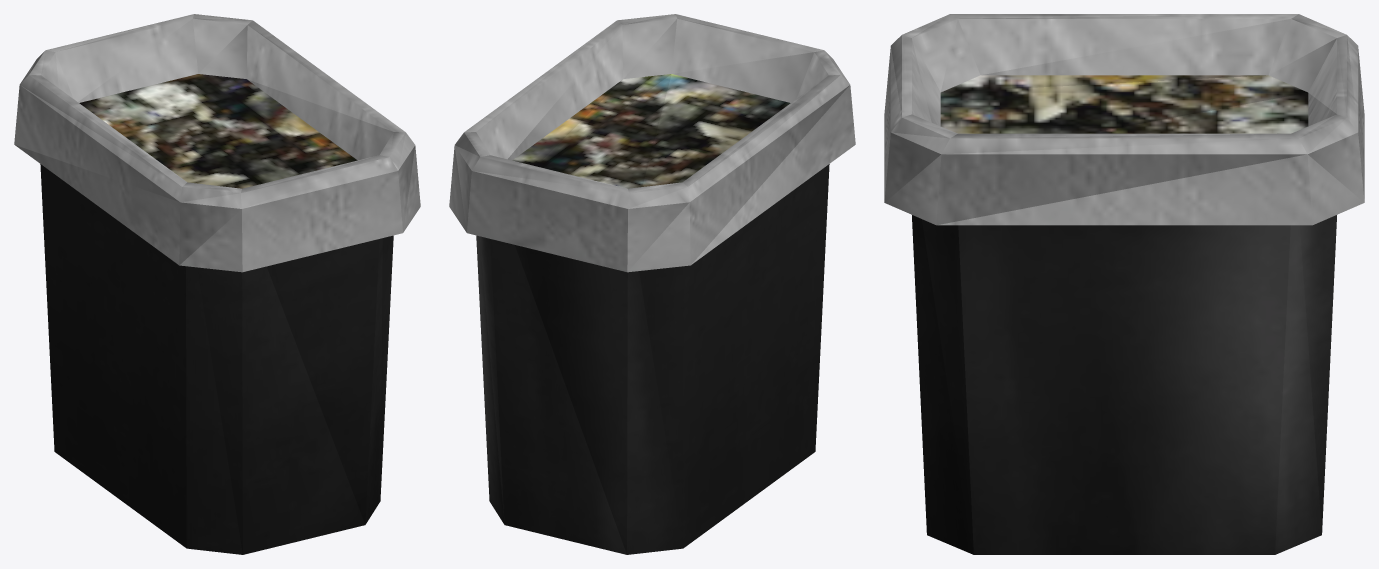
The model's file is lixeira_b.glb.
The picture shows the model from 3 angles, left to right: view 1: azimuth 30°, elevation 25°; view 2: azimuth 150°, elevation 25°; view 3: azimuth 270°, elevation 25°; orthographic projection. The views are drawn at different scales.
Parts seen in each view (by area): view 1: lixeira_b; view 2: lixeira_b; view 3: lixeira_b.
Boxes of the visible parts, box(x1,y1,x2,y2) form: lixeira_b: box(14, 14, 420, 554); lixeira_b: box(449, 14, 855, 554); lixeira_b: box(884, 14, 1364, 554).
Bounding box in the file's own units: 0.3049 × 0.45 × 0.4608.
1 material, 1 textured.
